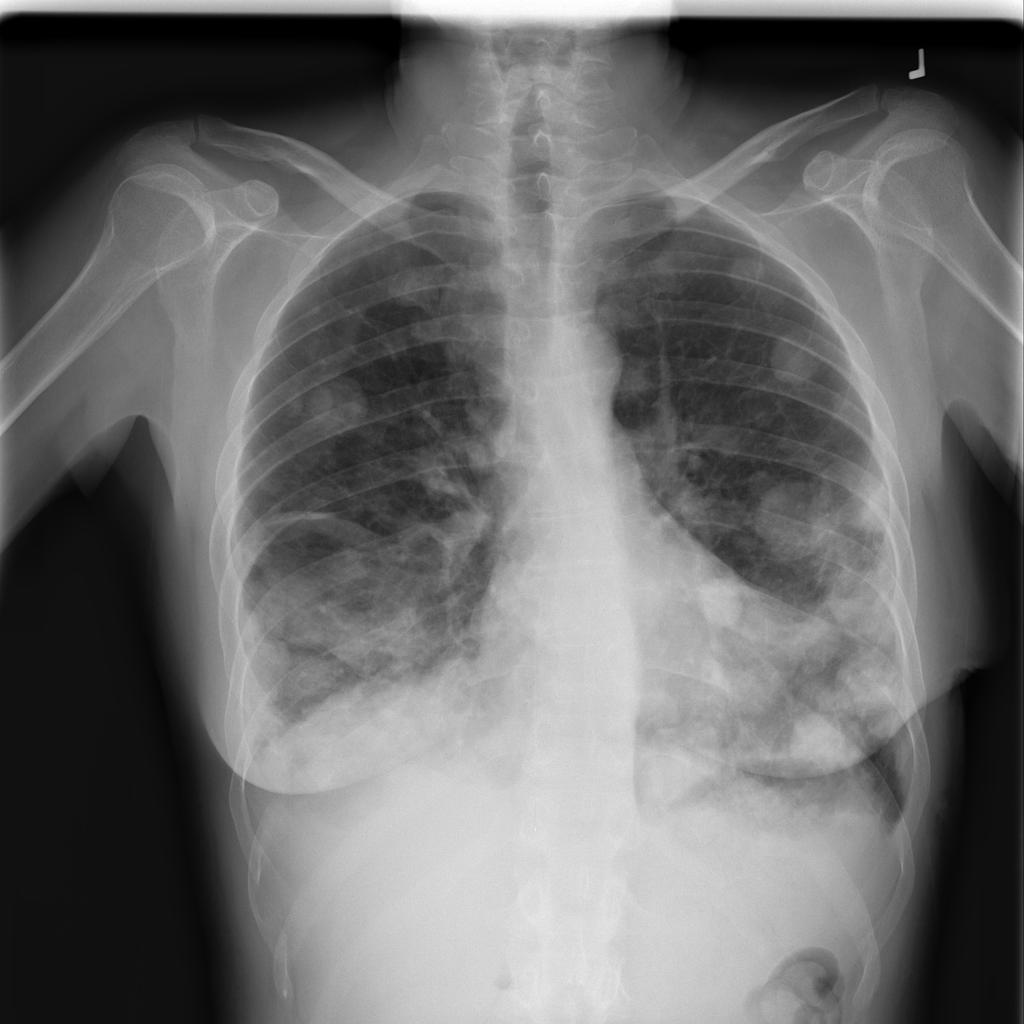nodule: (305, 554, 465, 689), (737, 462, 855, 573), (625, 702, 734, 815), (779, 705, 872, 779), (296, 367, 378, 441), (834, 647, 915, 718), (757, 322, 834, 396), (772, 601, 844, 679), (835, 468, 909, 541), (688, 565, 760, 635), (714, 244, 790, 308)
